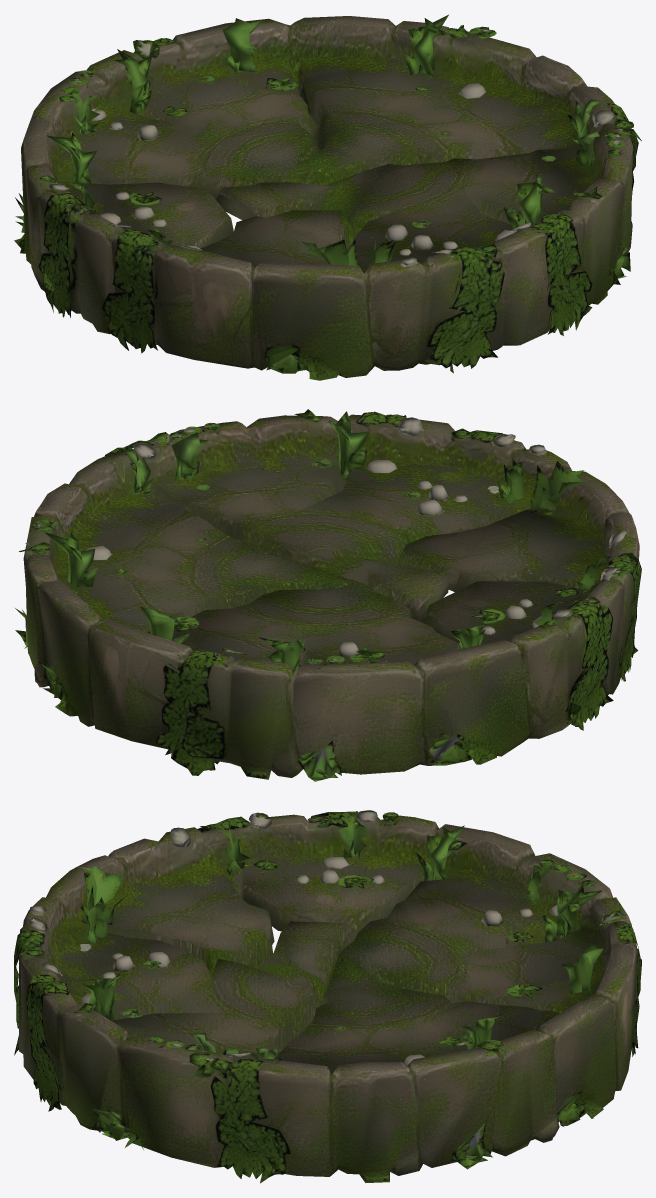
File: 019e885b-498a-7ba4-8bb9-78861fadae1a.glb
The picture shows the model from 3 angles, top to bottom: view 1: azimuth 30°, elevation 25°; view 2: azimuth 150°, elevation 25°; view 3: azimuth 270°, elevation 25°; orthographic projection.
Visible parts, largest first — view 1: tripo_node_de7255d9-04ba-4724-aa63-b32301ce4f42; view 2: tripo_node_de7255d9-04ba-4724-aa63-b32301ce4f42; view 3: tripo_node_de7255d9-04ba-4724-aa63-b32301ce4f42.
Boxes of the visible parts, box(x1,y1,x2,y2) form: tripo_node_de7255d9-04ba-4724-aa63-b32301ce4f42: box(14, 14, 641, 380); tripo_node_de7255d9-04ba-4724-aa63-b32301ce4f42: box(15, 409, 641, 781); tripo_node_de7255d9-04ba-4724-aa63-b32301ce4f42: box(14, 810, 641, 1183).
Bounding box in the file's own units: 0.998 × 0.248 × 0.998.
1 material, 1 textured.
